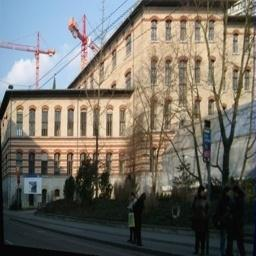building: (5, 10, 256, 240)
